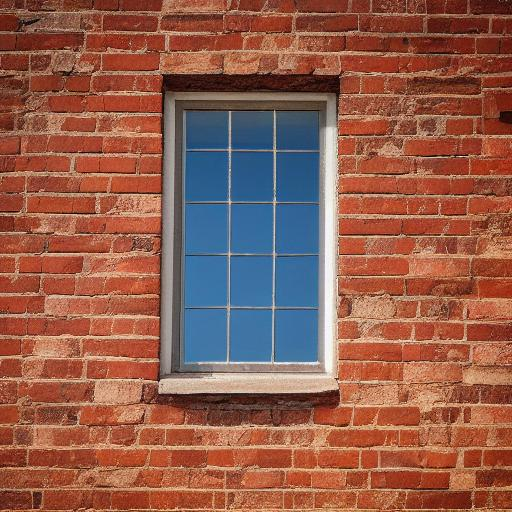Window: (153, 73, 344, 398)
